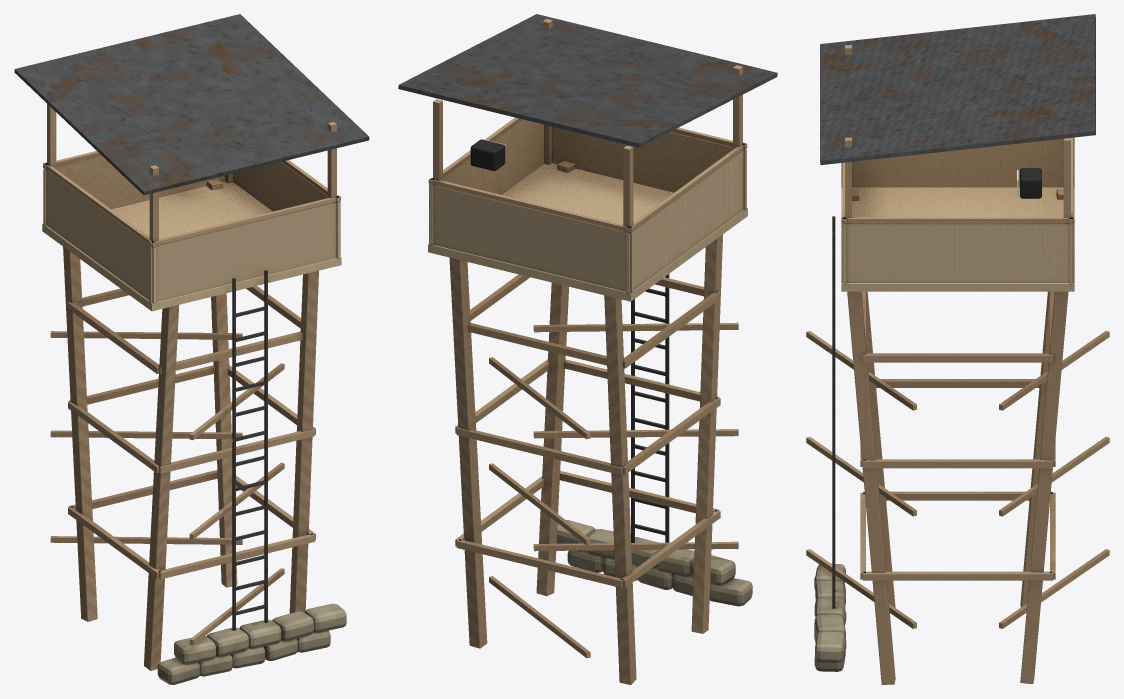
Rendered from d_watchtower.glb.
3 renders of one model, left to right at view 1: azimuth 30°, elevation 25°; view 2: azimuth 150°, elevation 25°; view 3: azimuth 270°, elevation 25°, orthographic. The views are drawn at different scales.
Parts seen in each view (by area): view 1: BldW_Shell, BldW_Roof; view 2: BldW_Shell, BldW_Roof; view 3: BldW_Shell, BldW_Roof.
Part boxes in pixels (<box>): BldW_Shell: <box>42,104,346,684</box>; BldW_Roof: <box>14,14,369,195</box>; BldW_Shell: <box>428,18,752,684</box>; BldW_Roof: <box>398,14,777,147</box>; BldW_Shell: <box>806,45,1109,684</box>; BldW_Roof: <box>820,14,1095,164</box>.
Size of the model in its own units: 3.8 by 8.65 by 4.15.
2 materials, 2 textured.
